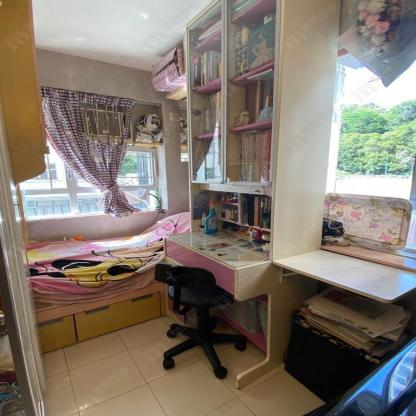AC: (79, 107, 130, 138)
Bed: (24, 211, 191, 355)
Desk: (161, 230, 271, 295)
